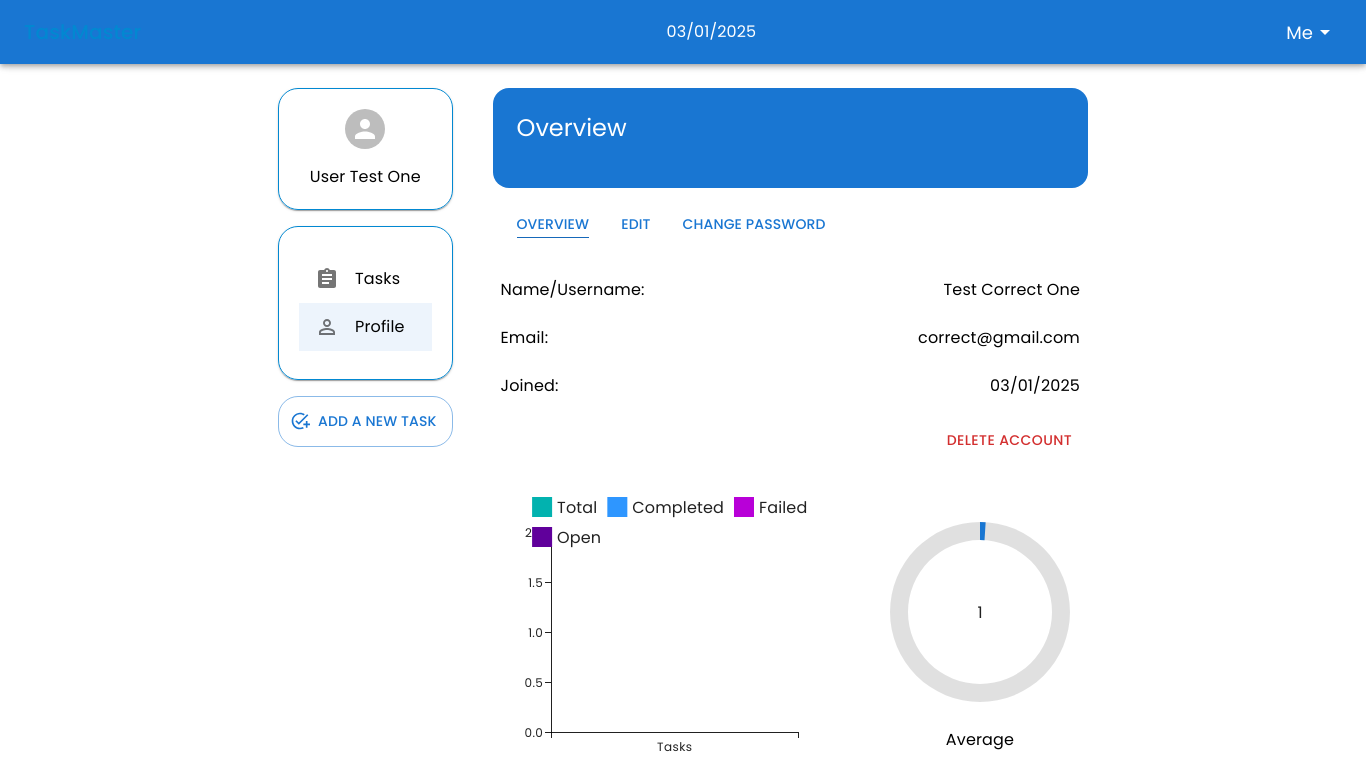
Profile Layout component testing › Should navigate to the Edit Profile page
This screenshot has width=1366, height=768.
Click the link with aria-label "link-/profile/edit" at (636, 225), box 621,212 -> 651,238
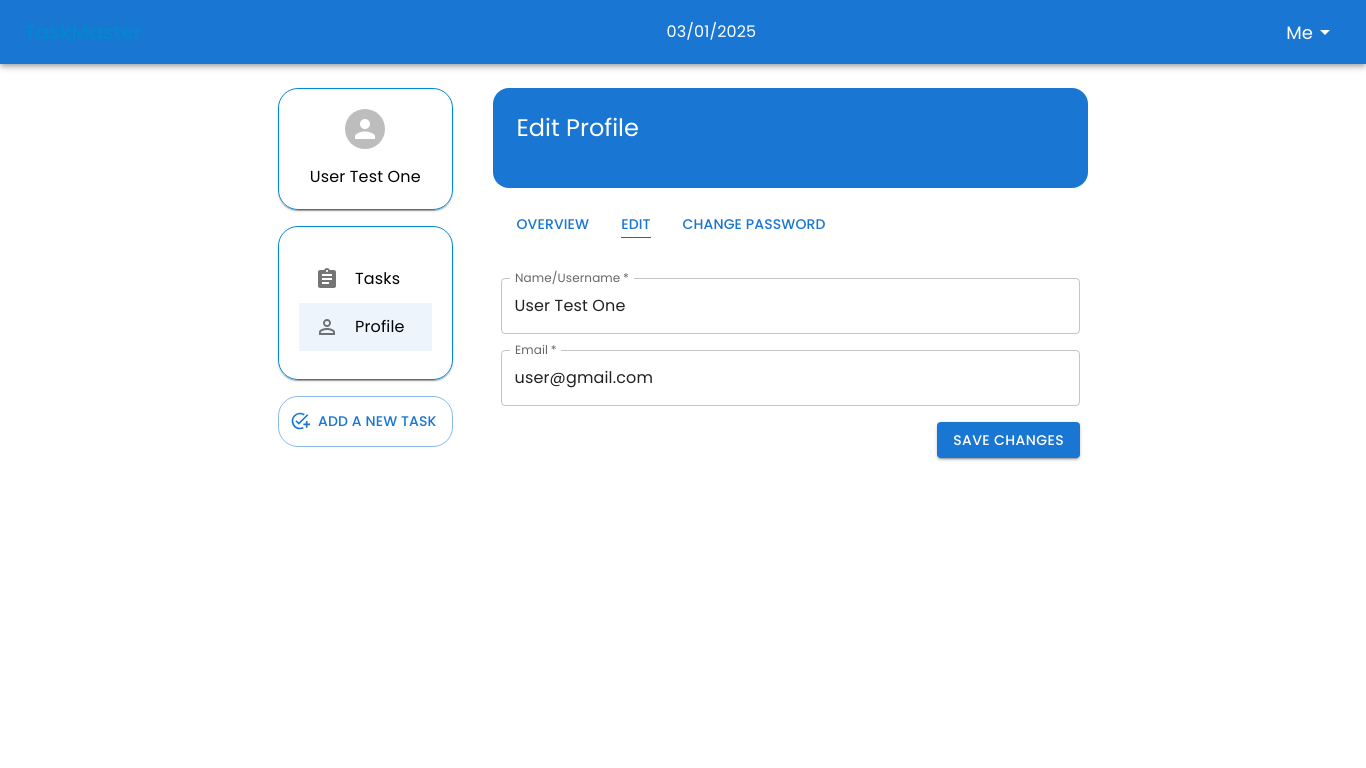
expect the heading "Edit Profile" is shown: met, box 516,111 -> 639,144
